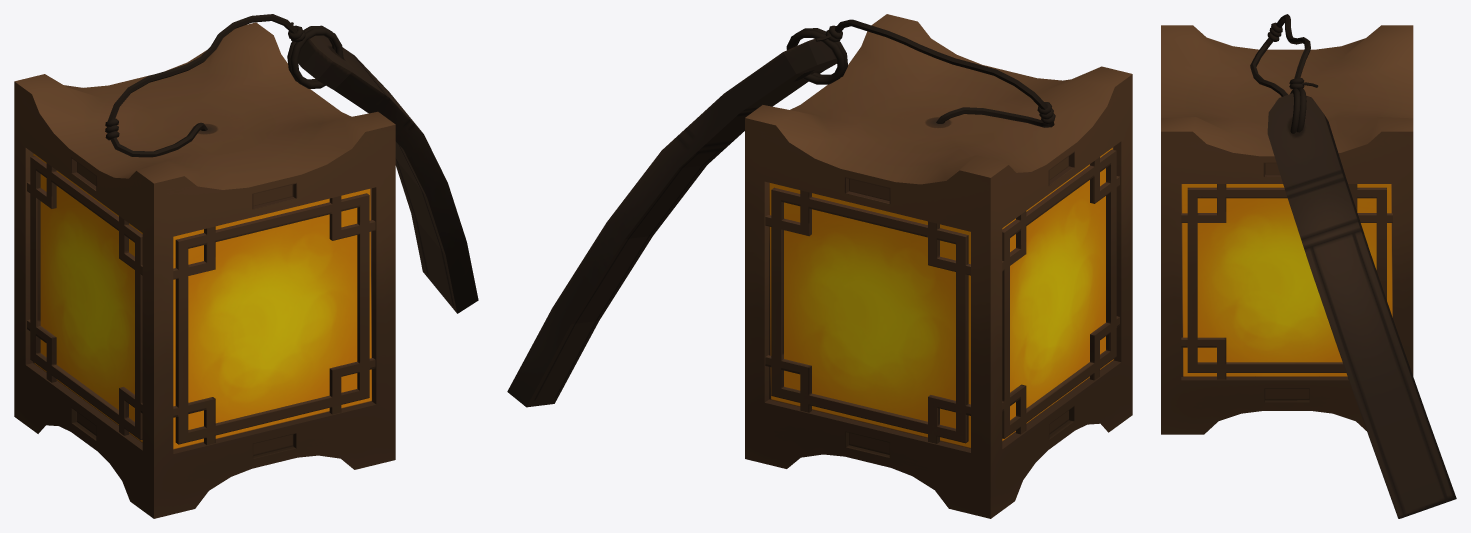
3 views of the same model, side by side, from view 1: azimuth 30°, elevation 25°; view 2: azimuth 150°, elevation 25°; view 3: azimuth 270°, elevation 25° (orthographic). The views are drawn at different scales.
Parts seen in each view (by area): view 1: lgiht01; view 2: lgiht01; view 3: lgiht01.
Part boxes in pixels (box(x1,y1,x2,y2)): lgiht01: box(14, 14, 478, 518); lgiht01: box(507, 14, 1132, 518); lgiht01: box(1161, 14, 1456, 518).
Size of the model in its own units: 3.55 by 2.97 by 2.2.
Materials: 1 (1 with a texture image).
